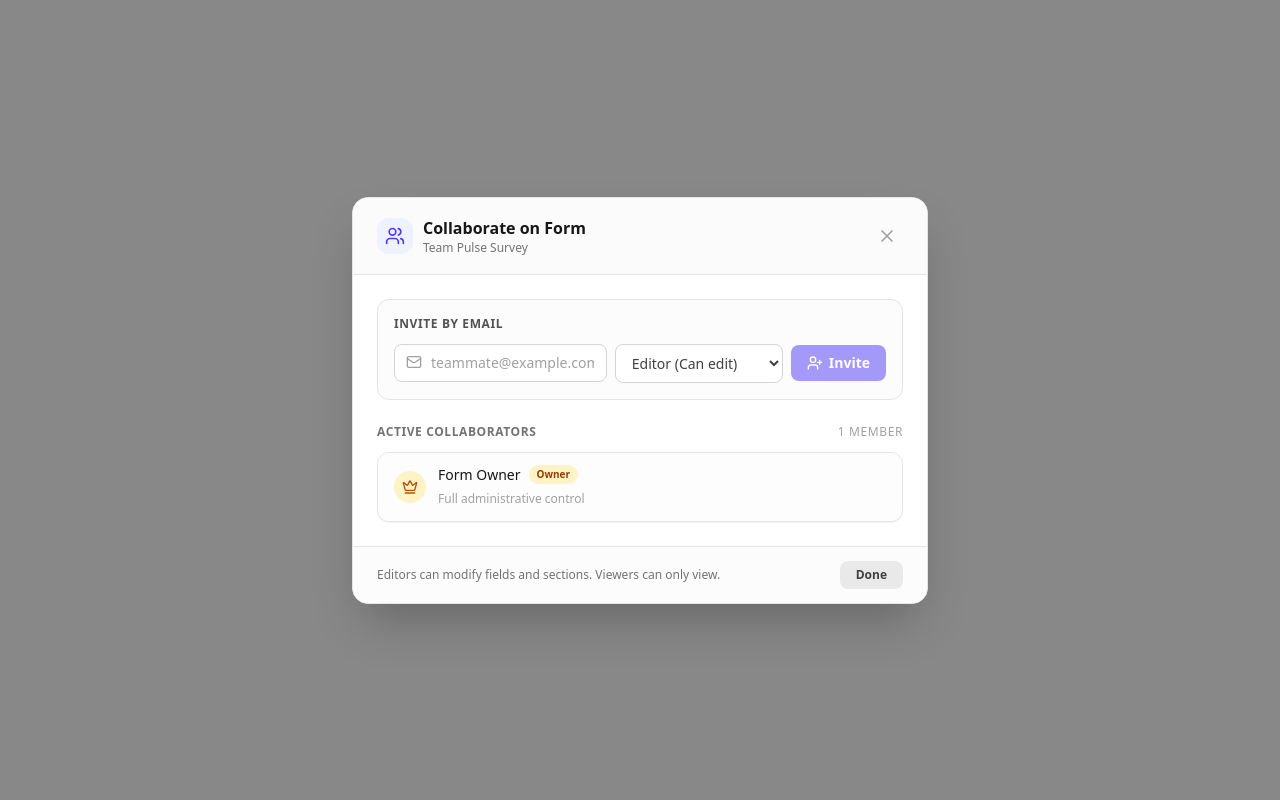
Test: Collaboration & Workspaces Feature › CollaboratorsModal › sends an invitation and shows the generated invite link
Type "jordan@example.com" into the field with placeholder "teammate@example.com".
click(500, 362); type("jordan@example.com")  # box [394, 344, 607, 382]
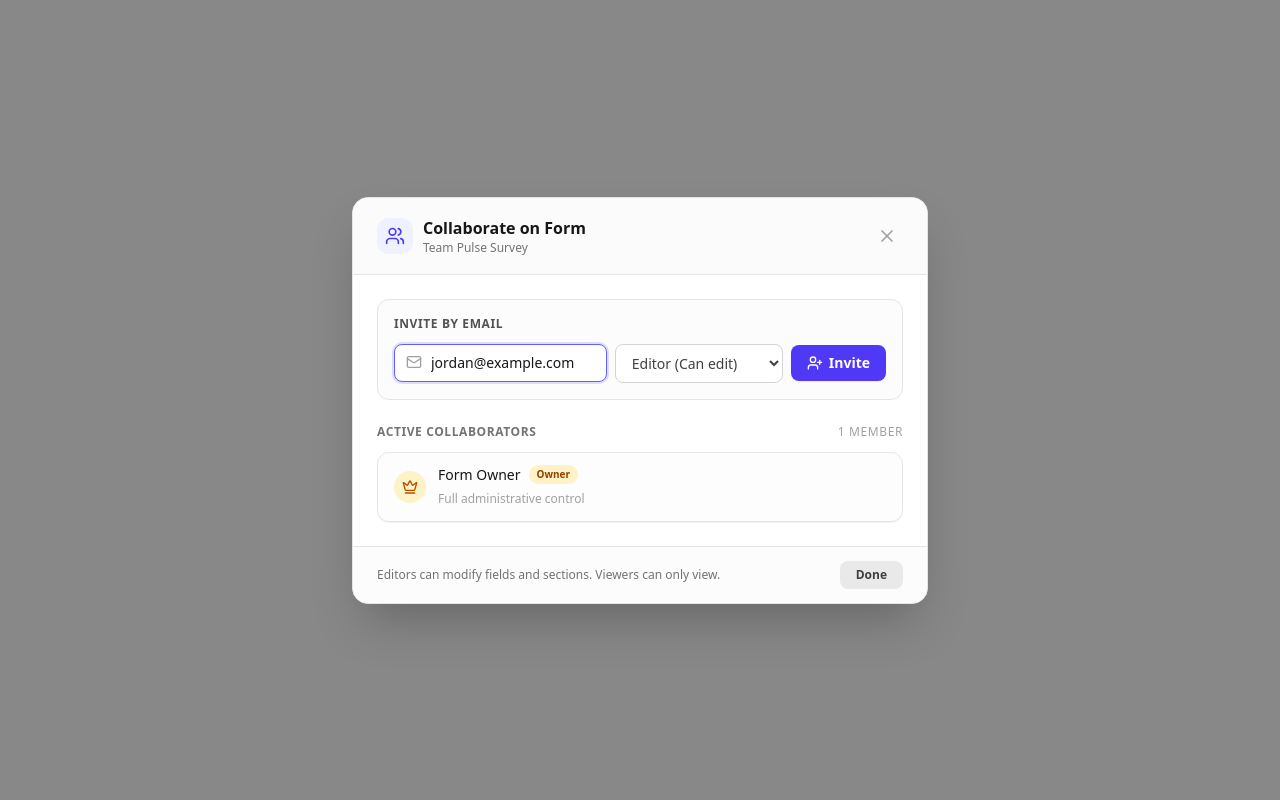
Select "Viewer (Read-only)" in the dropdown at (699, 363), box [615, 344, 783, 382]
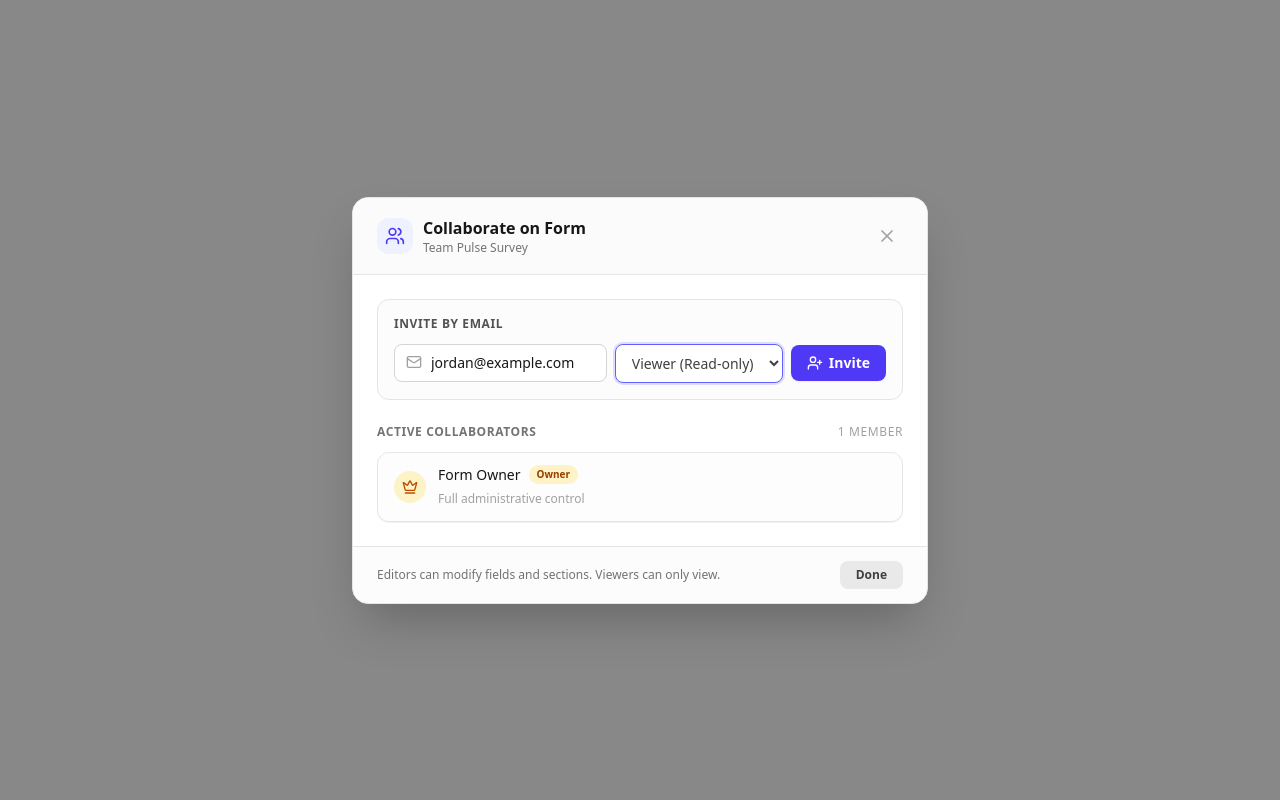
Click the button "Invite".
click(838, 363)  # box [791, 345, 886, 381]
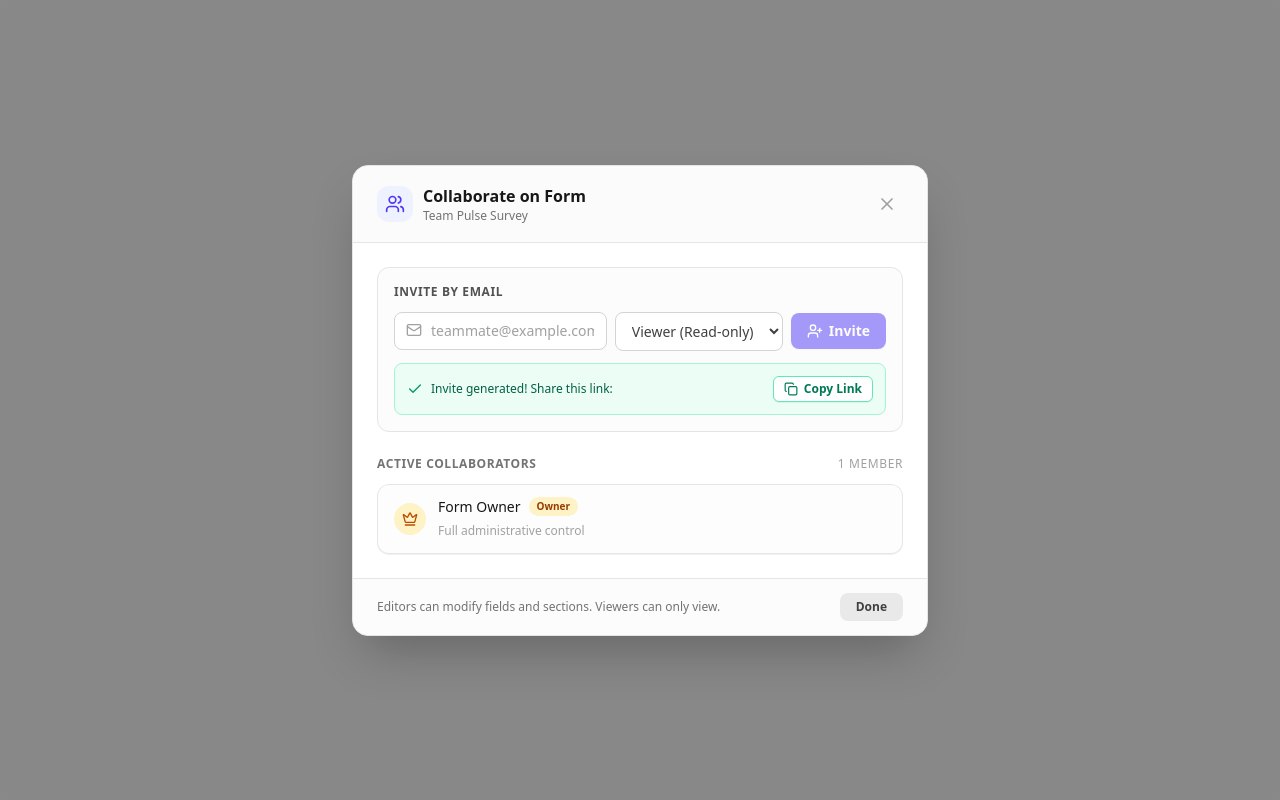
Expected: the text "Invite generated! Share this link:" is shown, [431, 380, 613, 396]
